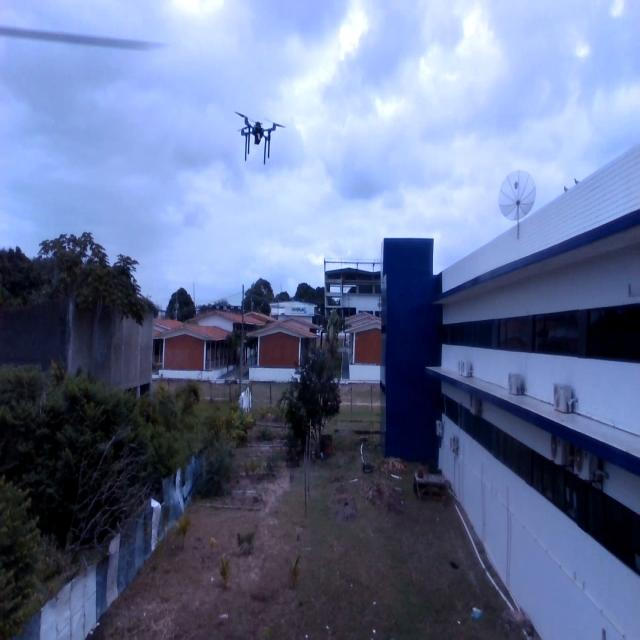-uav-: (224, 94, 294, 180)
